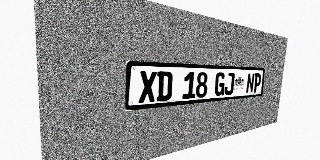1: (182, 72, 197, 99)
8: (195, 72, 208, 98)
D: (156, 71, 173, 101)
G: (214, 72, 226, 96)
J: (224, 73, 235, 95)
N: (246, 73, 255, 93)
P: (253, 73, 262, 93)
X: (138, 71, 157, 103)
